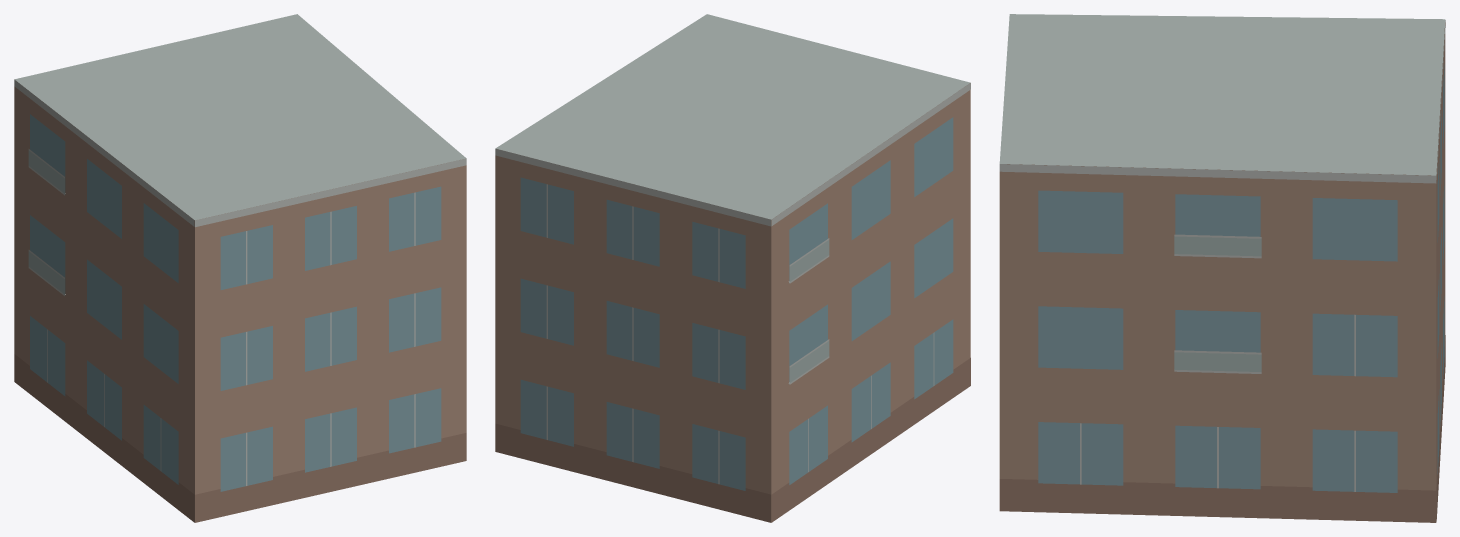
The model's file is survey-upis-32839498.glb.
3 views of the same model, side by side, from view 1: azimuth 30°, elevation 25°; view 2: azimuth 150°, elevation 25°; view 3: azimuth 270°, elevation 25° (orthographic). The views are drawn at different scales.
Parts seen in each view (by area): view 1: survey-upis-32839498.tmp; view 2: survey-upis-32839498.tmp; view 3: survey-upis-32839498.tmp.
Part boxes in pixels (x1=…): survey-upis-32839498.tmp: x1=14, y1=14, x2=466, y2=522; survey-upis-32839498.tmp: x1=495, y1=14, x2=970, y2=522; survey-upis-32839498.tmp: x1=999, y1=14, x2=1445, y2=522.
Bounding box in the file's own units: 10.69 × 10.7 × 12.46.
